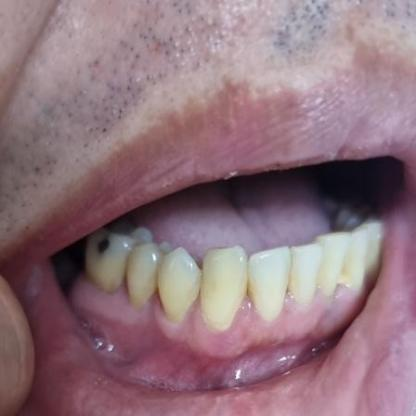Healthy: (198, 240, 320, 323)
